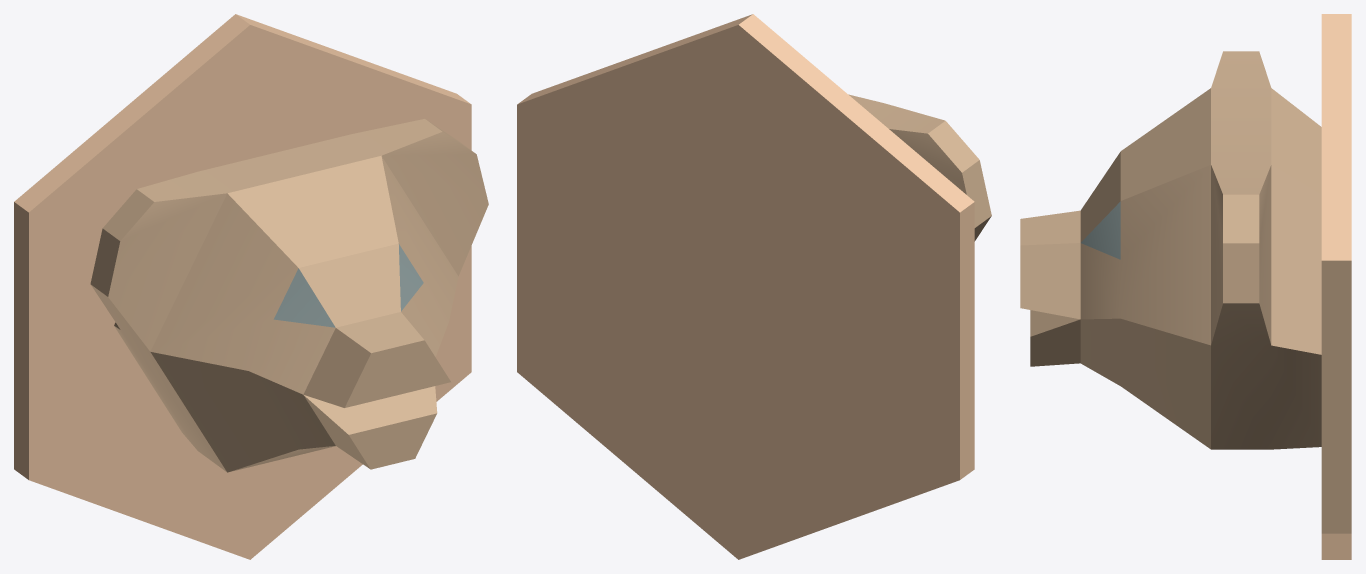
Rendered from bear$col.glb.
The picture shows the model from 3 angles, left to right: view 1: azimuth 30°, elevation 25°; view 2: azimuth 150°, elevation 25°; view 3: azimuth 270°, elevation 25°; orthographic projection. The views are drawn at different scales.
Visible parts, largest first — view 1: bear(Clone)$col; view 2: bear(Clone)$col; view 3: bear(Clone)$col.
Part boxes in pixels (<box>): bear(Clone)$col: <box>14,14,488,559</box>; bear(Clone)$col: <box>517,14,991,559</box>; bear(Clone)$col: <box>1020,14,1351,559</box>.
Size of the model in its own units: 0.3897 by 0.45 by 0.2475.
